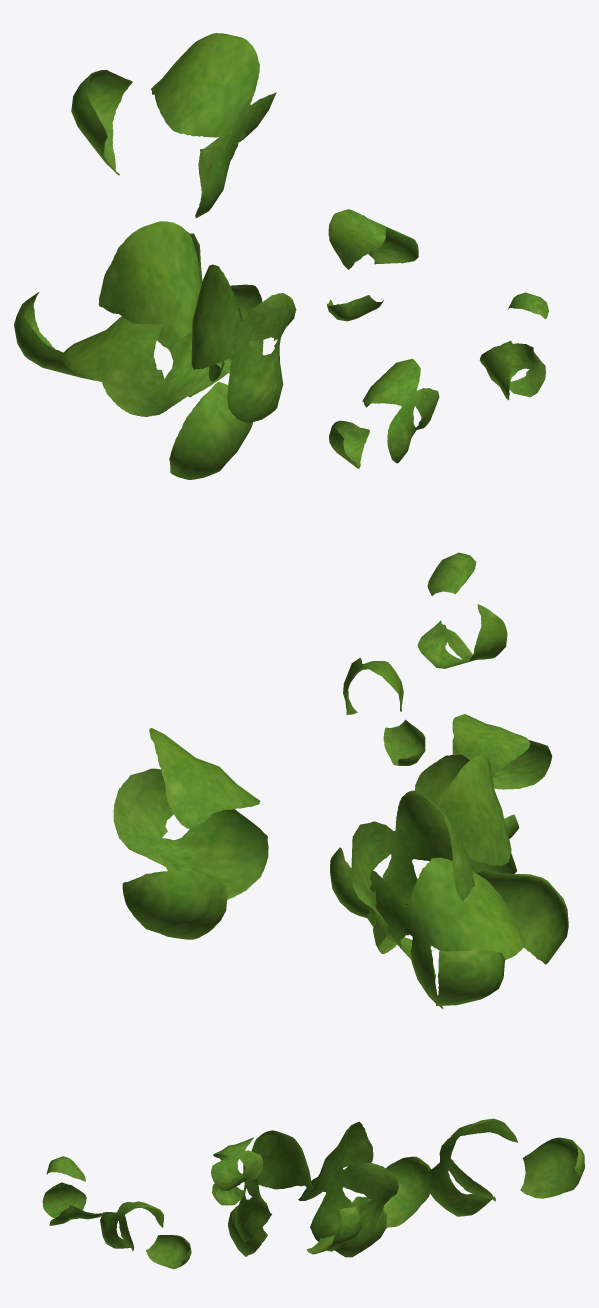
File: SM_ENV_LKNVLD_TreeSet_T.FBX
3 views of the same model, one above another, from view 1: azimuth 30°, elevation 25°; view 2: azimuth 150°, elevation 25°; view 3: azimuth 270°, elevation 25° (orthographic). The views are drawn at different scales.
Visible parts, largest first — view 1: SM_ENV_LKNVLD_TreeSet_T; view 2: SM_ENV_LKNVLD_TreeSet_T; view 3: SM_ENV_LKNVLD_TreeSet_T.
Boxes of the visible parts, x1,y1,x2,y2 form: SM_ENV_LKNVLD_TreeSet_T: [14, 33, 548, 479]; SM_ENV_LKNVLD_TreeSet_T: [113, 552, 568, 1009]; SM_ENV_LKNVLD_TreeSet_T: [42, 1118, 584, 1269].
Bounding box in the file's own units: 13918 × 13288 × 27245.
